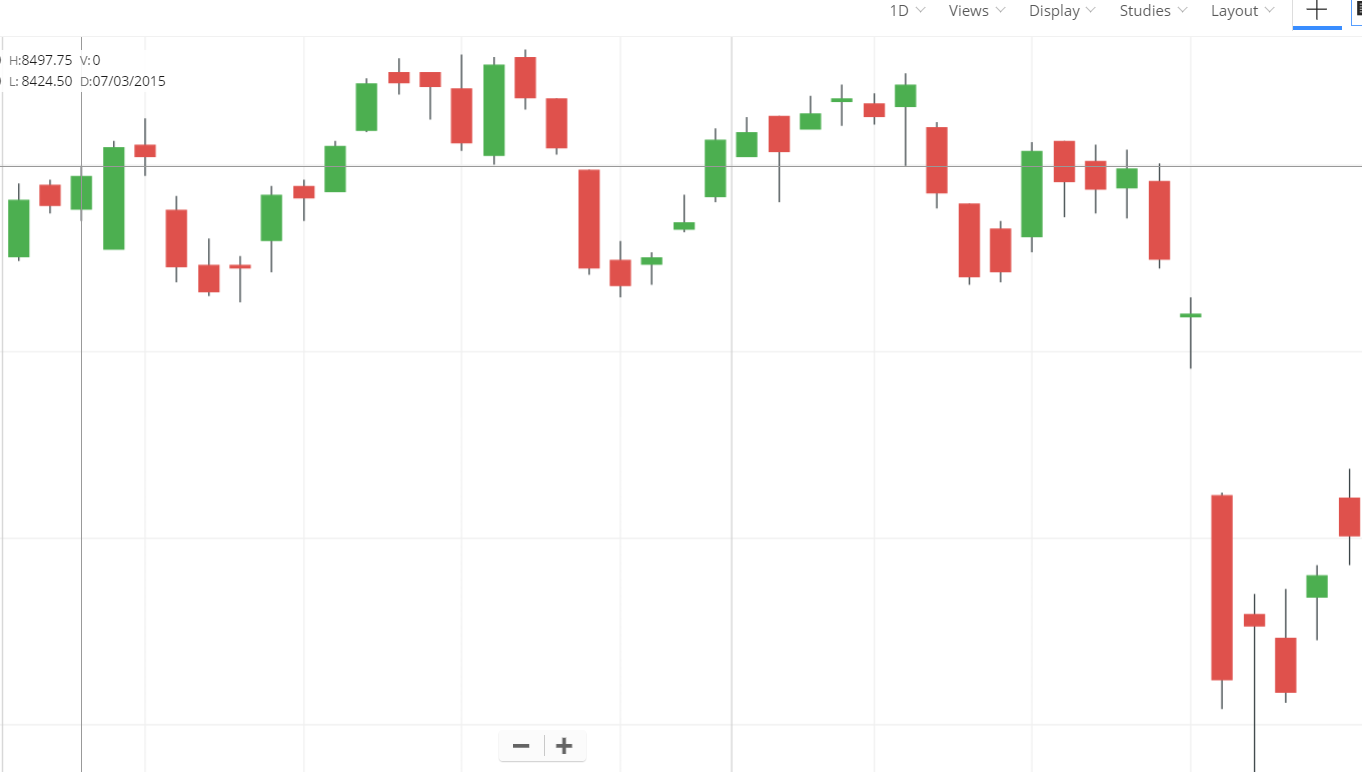doji: (1170, 282, 1209, 379), (890, 68, 920, 163), (226, 244, 256, 316), (666, 182, 699, 244), (413, 63, 443, 119), (831, 76, 857, 134), (635, 241, 664, 291)
